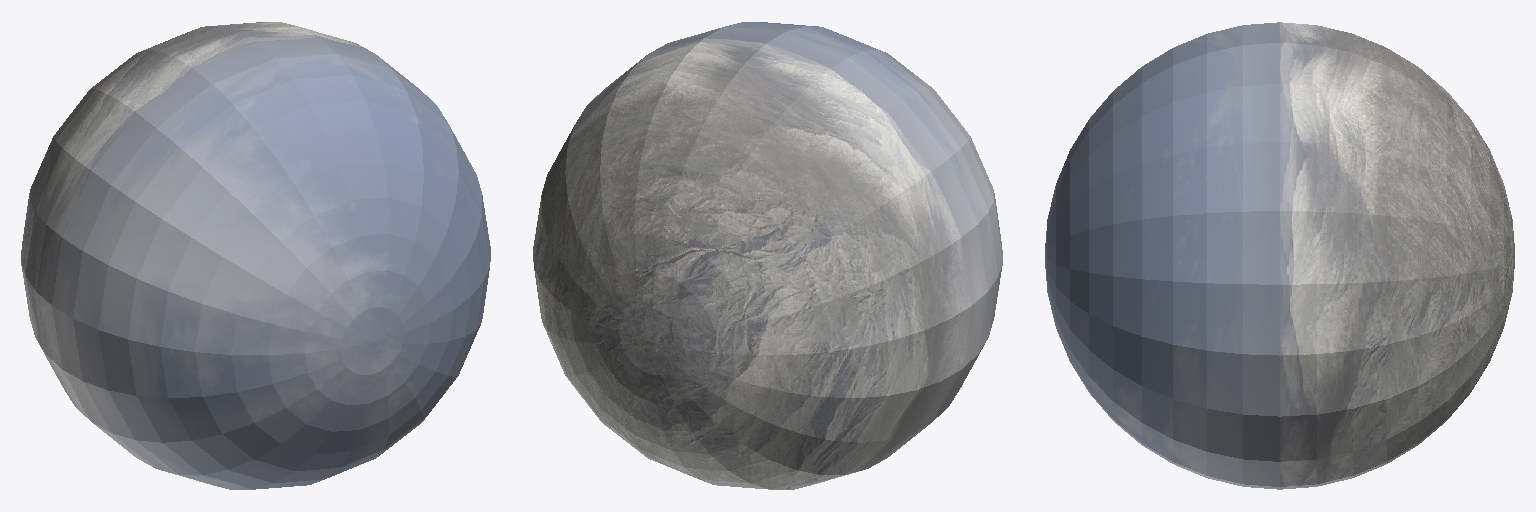
The picture shows the model from 3 angles: view 1: azimuth 30°, elevation 25°; view 2: azimuth 150°, elevation 25°; view 3: azimuth 270°, elevation 25°; orthographic projection.
Parts seen in each view (by area): view 1: pSphere1; view 2: pSphere1; view 3: pSphere1.
Boxes of the visible parts, box(x1,y1,x2,y2) form: pSphere1: box(21, 22, 490, 489); pSphere1: box(533, 22, 1002, 489); pSphere1: box(1045, 22, 1514, 489).
Bounding box in the file's own units: 397 × 397 × 397.
Materials: 1 (1 with a texture image).